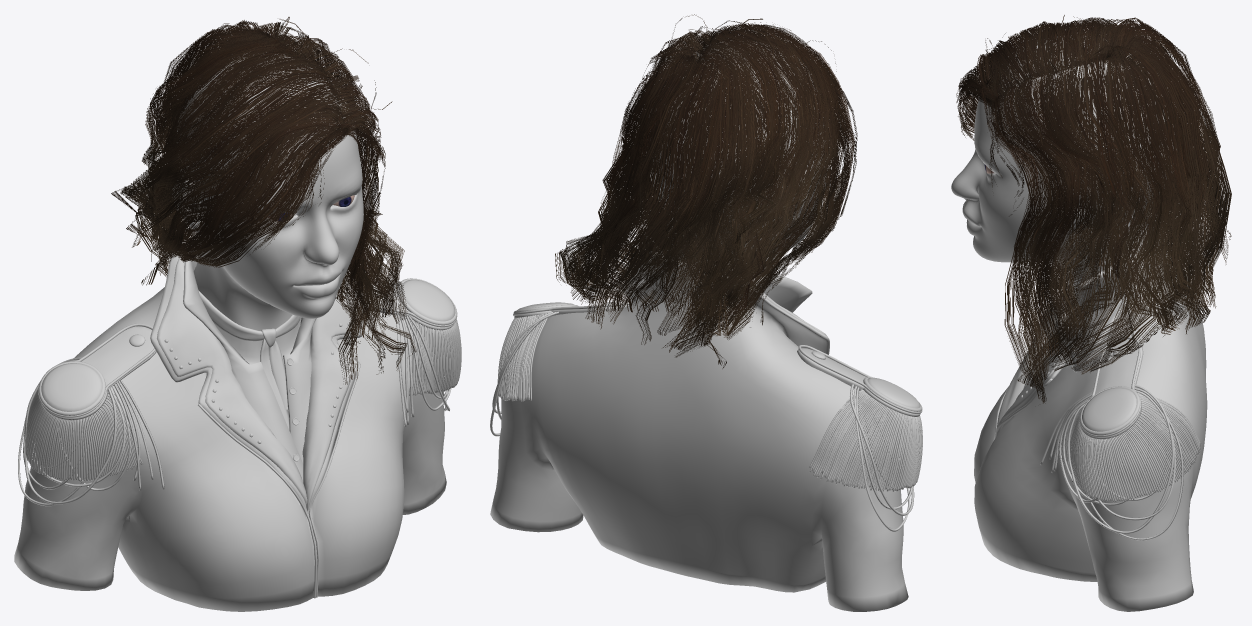
File: WomanFullBust.fbx
3 renders of one model, left to right at view 1: azimuth 30°, elevation 25°; view 2: azimuth 150°, elevation 25°; view 3: azimuth 270°, elevation 25°, orthographic. The views are drawn at different scales.
Parts seen in each view (by area): view 1: Coat, Hair_02, Hair_01, Head_Silent; view 2: Coat, Hair_02, Hair_01, Head_Silent; view 3: Hair_02, Coat, Hair_01, Head_Silent.
Boxes of the visible parts, left/top/right/bottom form: Coat: left=14, top=232, right=461, bottom=611; Hair_02: left=111, top=17, right=416, bottom=373; Hair_01: left=112, top=19, right=415, bottom=384; Head_Silent: left=172, top=52, right=363, bottom=410; Coat: left=490, top=234, right=922, bottom=611; Hair_02: left=555, top=19, right=857, bottom=365; Hair_01: left=556, top=14, right=856, bottom=368; Head_Silent: left=642, top=40, right=827, bottom=274; Hair_02: left=956, top=17, right=1231, bottom=403; Coat: left=974, top=213, right=1207, bottom=611; Hair_01: left=956, top=15, right=1230, bottom=403; Head_Silent: left=951, top=35, right=1176, bottom=327.
Bounding box in the file's own units: 45.87 × 55.13 × 28.23.
